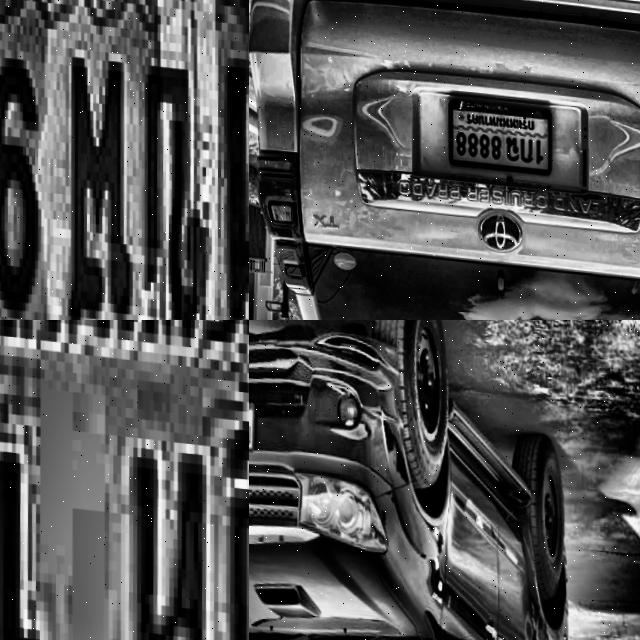license-plate: (0, 0, 249, 320), (0, 320, 249, 640), (444, 90, 554, 170)
